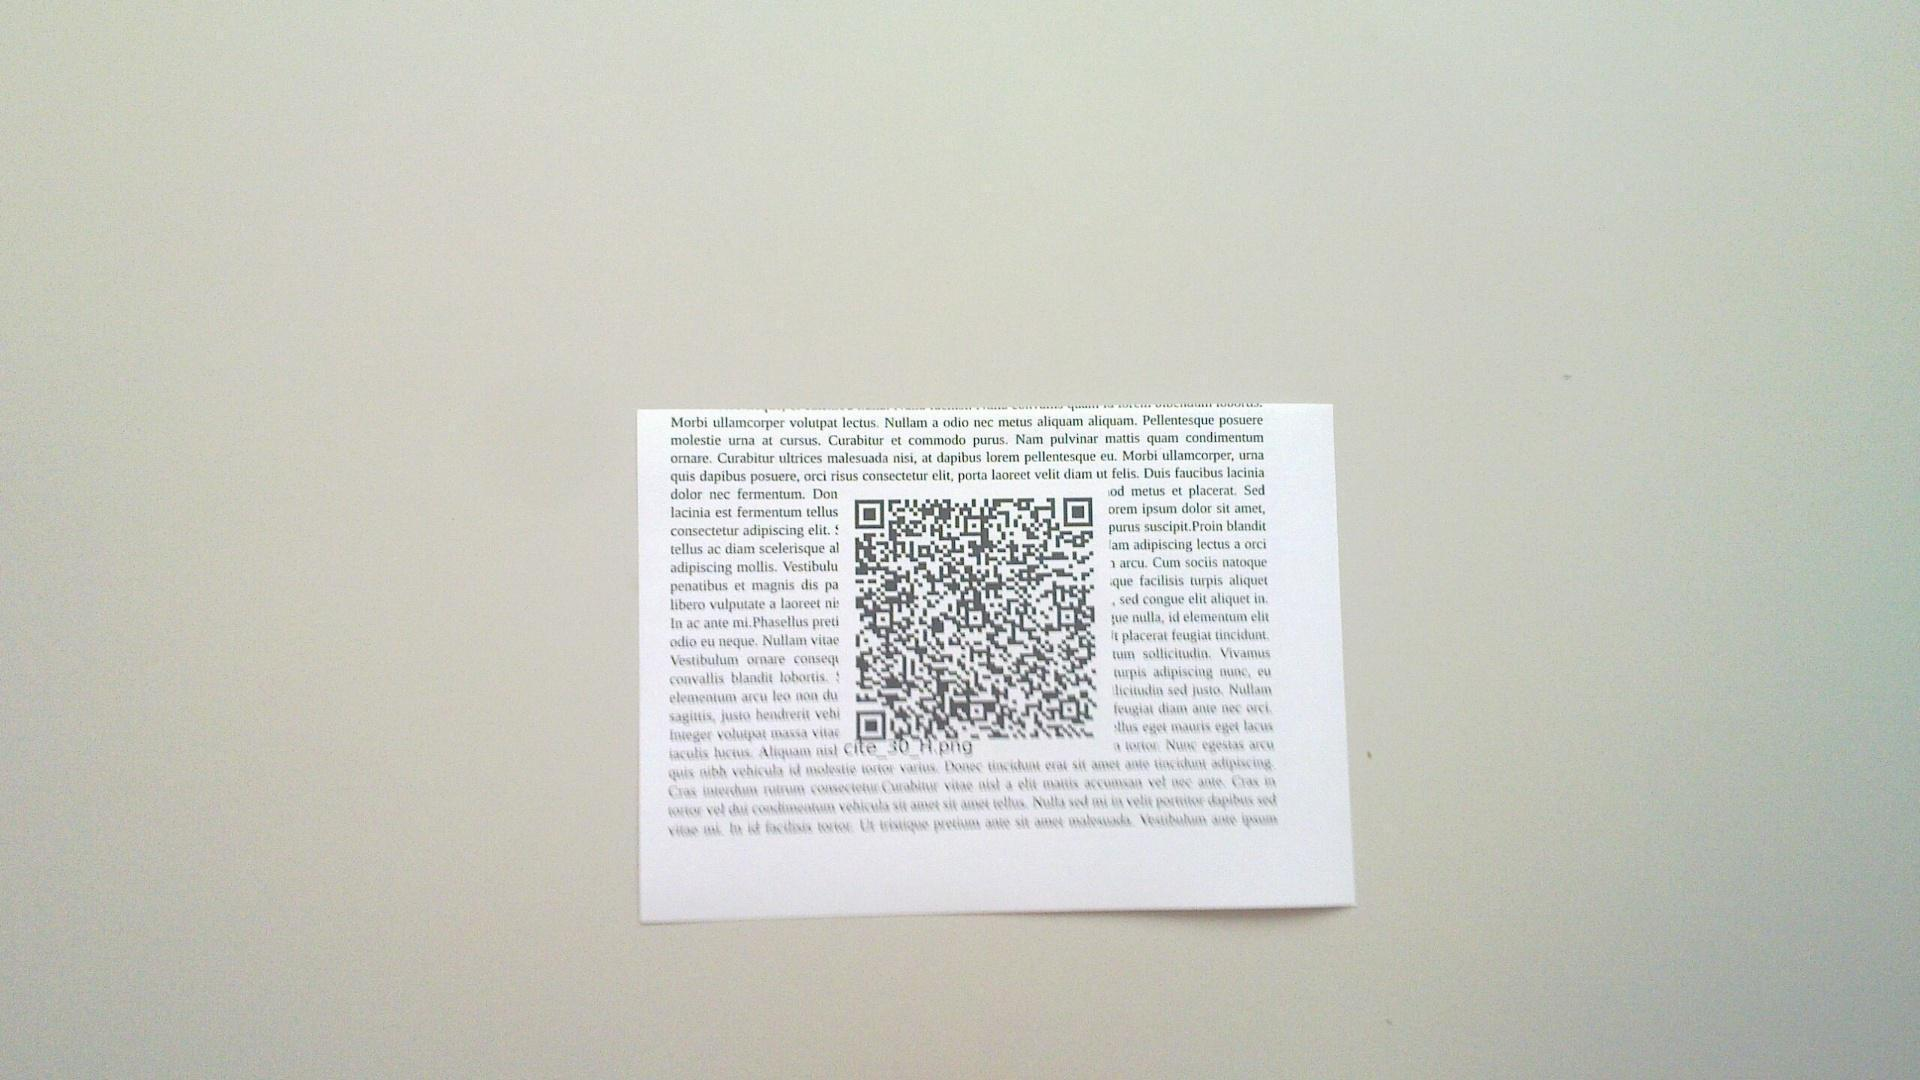qr_code: (853, 497, 1097, 742)
